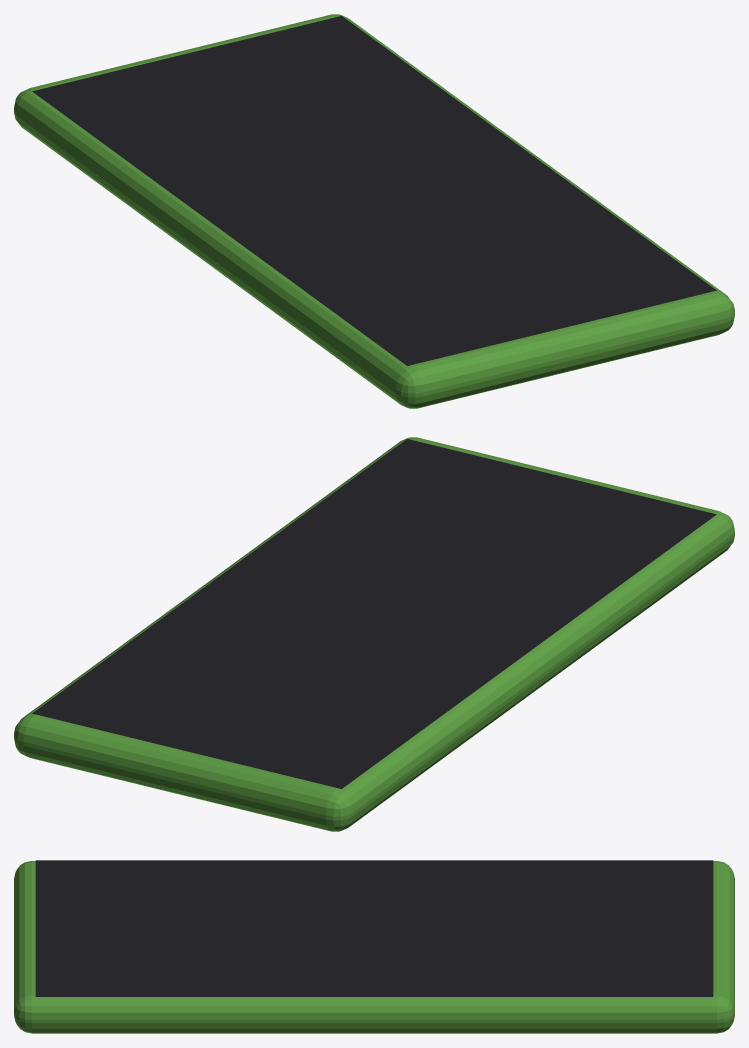
The model's file is Phone_867.glb.
3 views of the same model, one above another, from view 1: azimuth 30°, elevation 25°; view 2: azimuth 150°, elevation 25°; view 3: azimuth 270°, elevation 25° (orthographic). The views are drawn at different scales.
Parts seen in each view (by area): view 1: Phone_Screen, Phone_Body; view 2: Phone_Screen, Phone_Body; view 3: Phone_Screen, Phone_Body.
Part boxes in pixels (left/top/right/bottom): Phone_Screen: left=32, top=16, right=716, bottom=365; Phone_Body: left=14, top=14, right=734, bottom=408; Phone_Screen: left=32, top=439, right=716, bottom=788; Phone_Body: left=14, top=437, right=734, bottom=831; Phone_Screen: left=35, top=860, right=713, bottom=996; Phone_Body: left=14, top=861, right=734, bottom=1033.
Bounding box in the file's own units: 0.0798 × 0.0092 × 0.1639.
